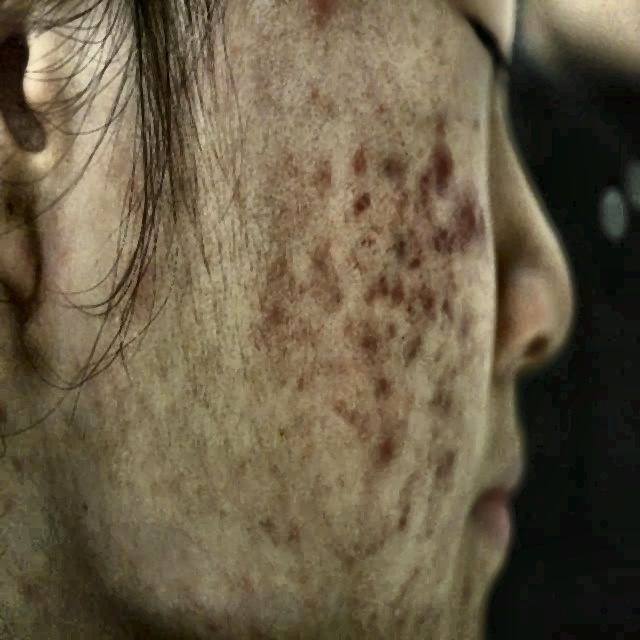pustule: (456, 193, 494, 259), (402, 317, 433, 377), (421, 278, 451, 330), (424, 146, 460, 183), (433, 216, 458, 265), (360, 270, 390, 310), (392, 210, 412, 266), (431, 439, 458, 478), (381, 154, 410, 190), (349, 182, 376, 219), (373, 364, 395, 408), (391, 268, 413, 311), (343, 138, 376, 164), (377, 422, 397, 461), (411, 180, 430, 213)
